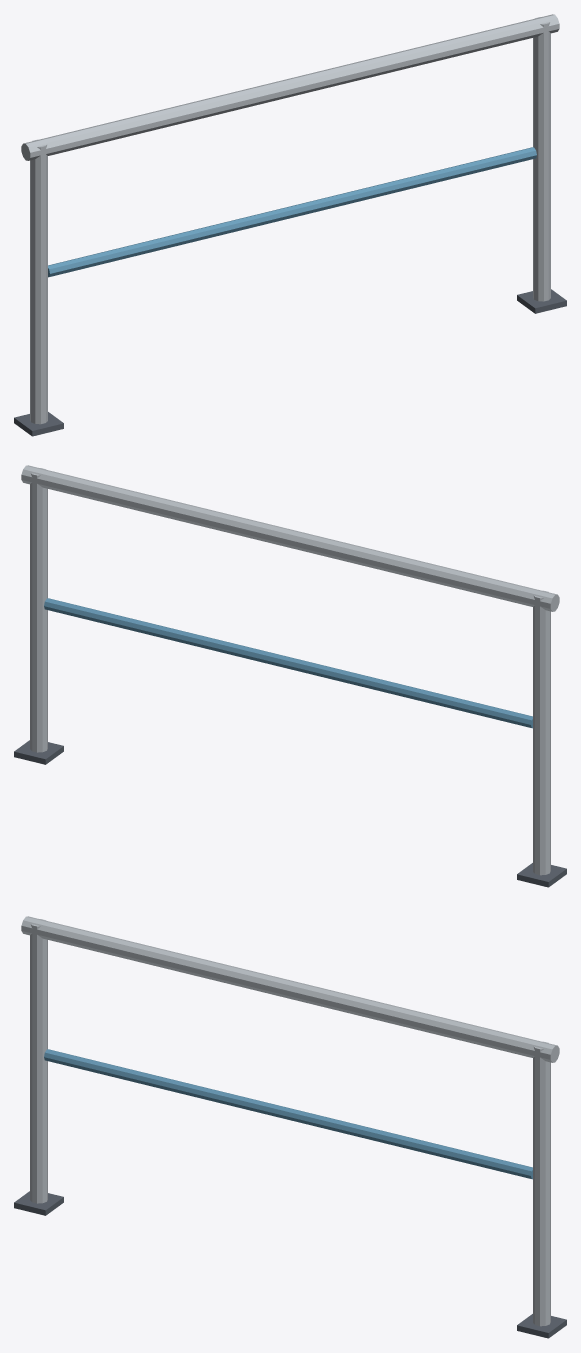
Rendered from spaceship-deck-kit-railing-2m-d2739120__12593.glb.
3 views of the same model, one above another, from view 1: azimuth 30°, elevation 25°; view 2: azimuth 150°, elevation 25°; view 3: azimuth 330°, elevation 25° (orthographic).
Parts seen in each view (by area): view 1: railing-2m; view 2: railing-2m; view 3: railing-2m.
Part boxes in pixels (left/top/right/bottom): railing-2m: left=14, top=14, right=566, bottom=436; railing-2m: left=14, top=465, right=566, bottom=887; railing-2m: left=14, top=916, right=566, bottom=1338.
Size of the model in its own units: 2.02 by 1.03 by 0.1201.
